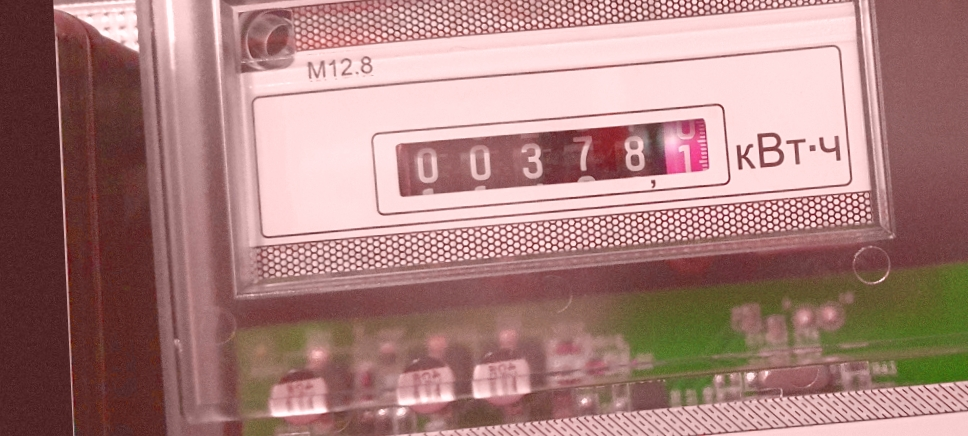0: (413, 142, 442, 184), (466, 141, 493, 181), (674, 117, 697, 140)
1: (674, 140, 695, 173)
3: (517, 139, 545, 180)
7: (570, 132, 595, 172)
8: (621, 131, 647, 172)
screen: (374, 98, 729, 207)
